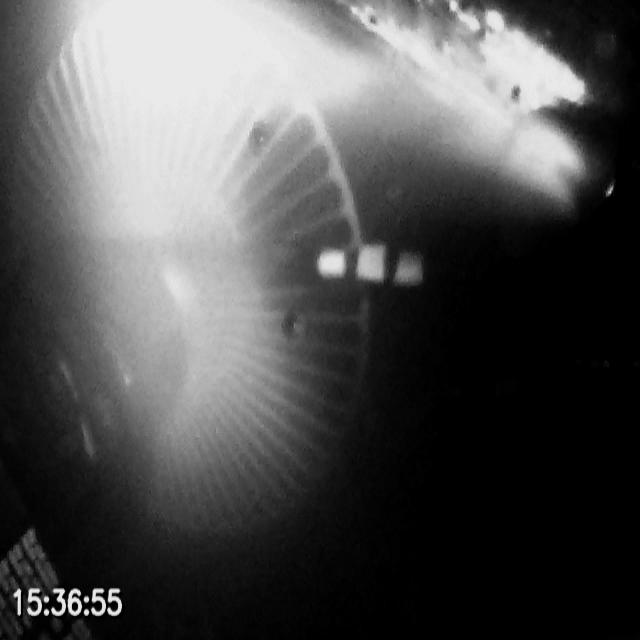white-dots: (316, 241, 425, 290)
